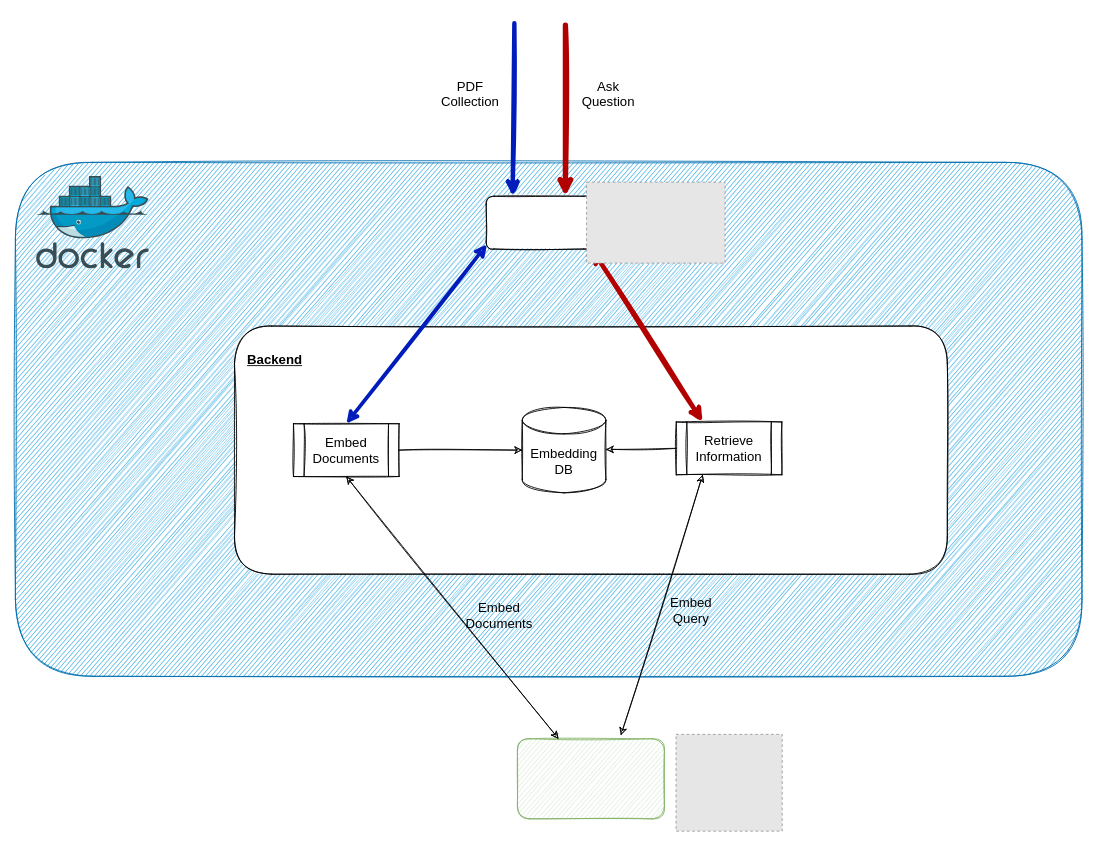
Image size: 1097x847. Some labels were removed from this diagram. Grey dashed boxes stand in for pictures. Here are the shapes that lost their labels. From the top down, the centre of each, then its label:
pixel 538 222: Frontend
pixel 590 778: Aleph Alpha API
